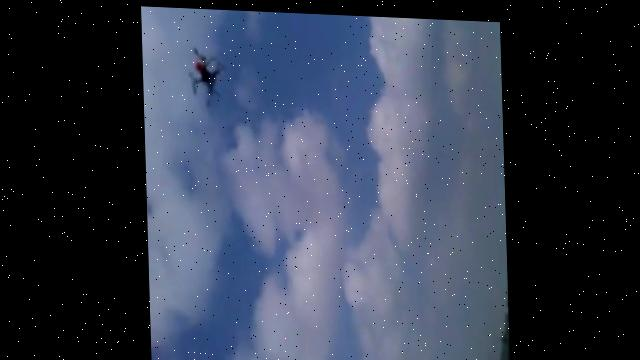drone: (181, 40, 228, 108)
